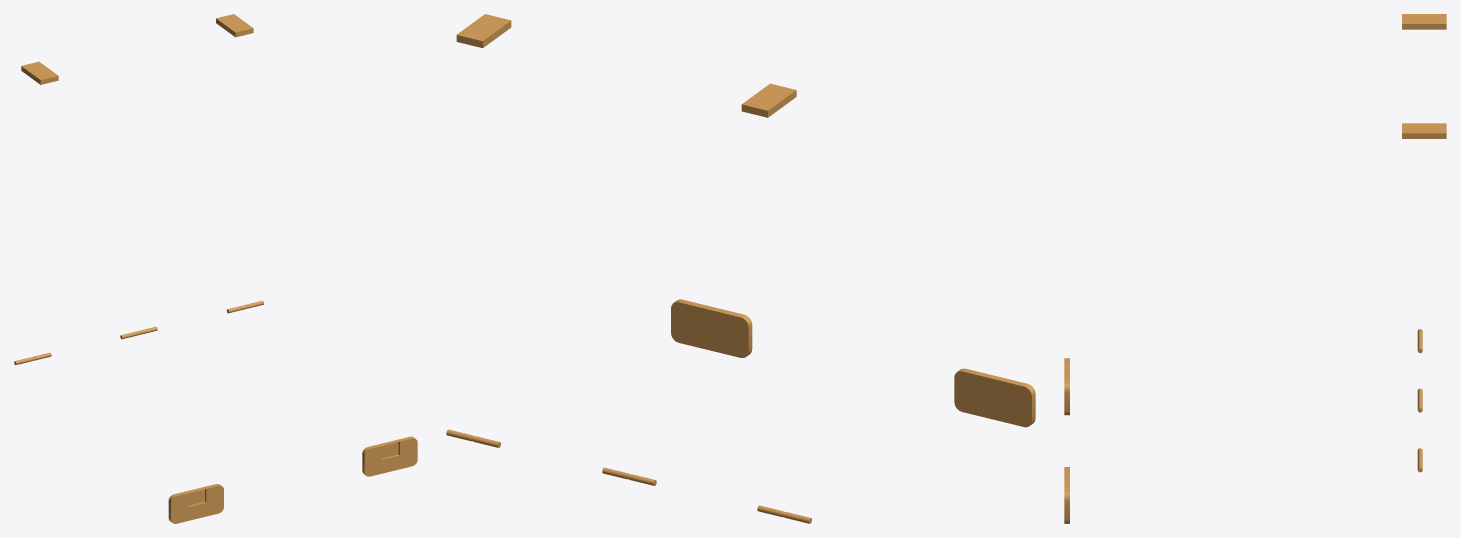
Rendered from metalic.glb.
3 views of the same model, side by side, from view 1: azimuth 30°, elevation 25°; view 2: azimuth 150°, elevation 25°; view 3: azimuth 270°, elevation 25° (orthographic). The views are drawn at different scales.
Visible parts, largest first — view 1: Cube.006, Cube.005, Plane.136, Plane.135; view 2: Cube.005, Cube.006, Plane.136, Plane.135; view 3: Plane.135, Plane.136.
Boxes of the visible parts, <box> form: Cube.006: <box>362,436,417,476</box>; Cube.005: <box>168,484,223,523</box>; Plane.136: <box>216,14,253,37</box>; Plane.135: <box>21,61,58,84</box>; Cube.005: <box>954,368,1035,427</box>; Cube.006: <box>671,299,752,357</box>; Plane.136: <box>456,14,511,48</box>; Plane.135: <box>741,83,796,117</box>; Plane.135: <box>1402,14,1446,29</box>; Plane.136: <box>1402,123,1446,138</box>.
Size of the model in its own units: 2.8 by 3.6 by 3.26.
